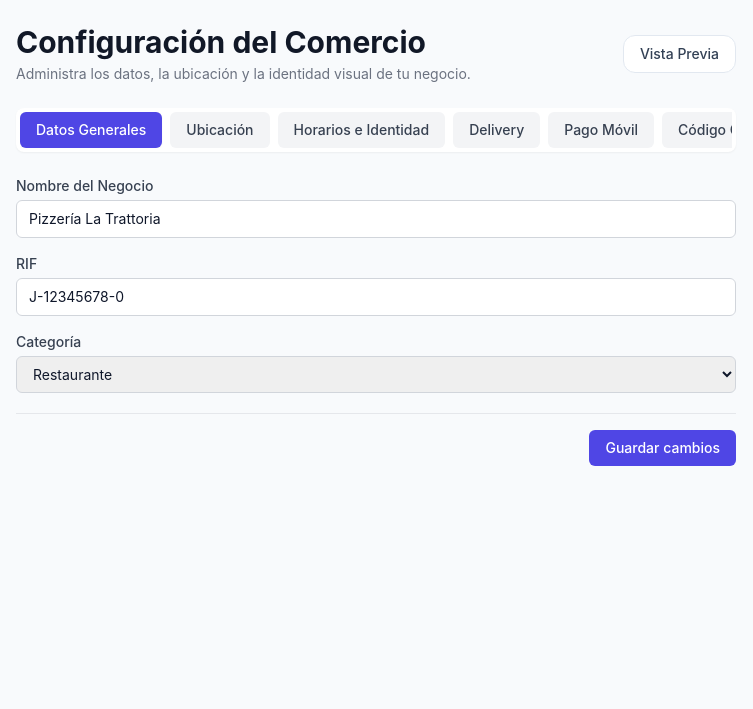
Test: MerchantSettingsPage › precarga los campos con los datos del comercio existente
Expected: the field showing "Pizzería La Trattoria" is shown, [16,200,736,238]
Expected: the field showing "J-12345678-0" is shown, [16,278,736,316]
Click the button "Ubicación".
click(220, 130)  # box [170,112,270,148]
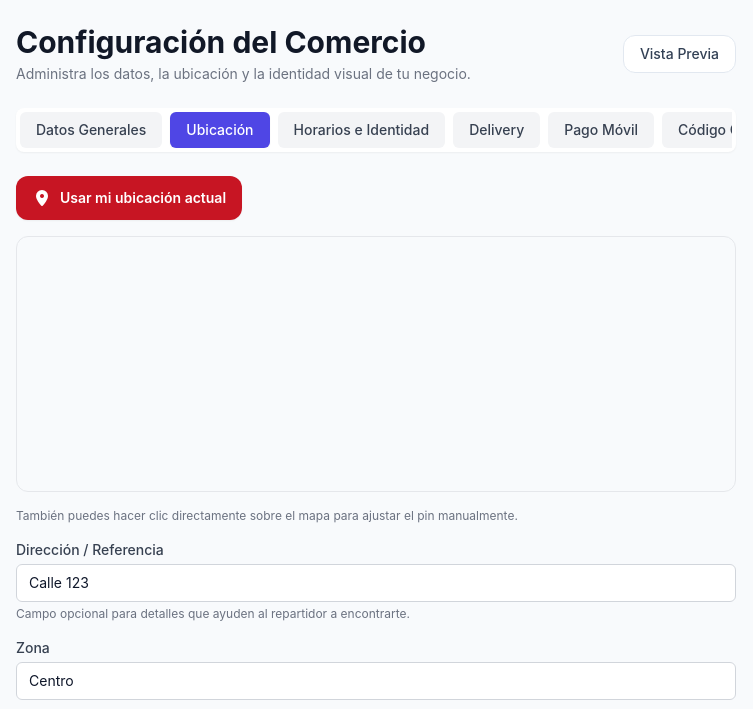
Result: the field showing "Calle 123" is shown at [16,564,736,602]
Result: the field showing "Centro" is shown at [16,662,736,700]
Click the button "Horarios e Identidad".
click(361, 130)  # box [278,112,445,148]
(page scrolled)
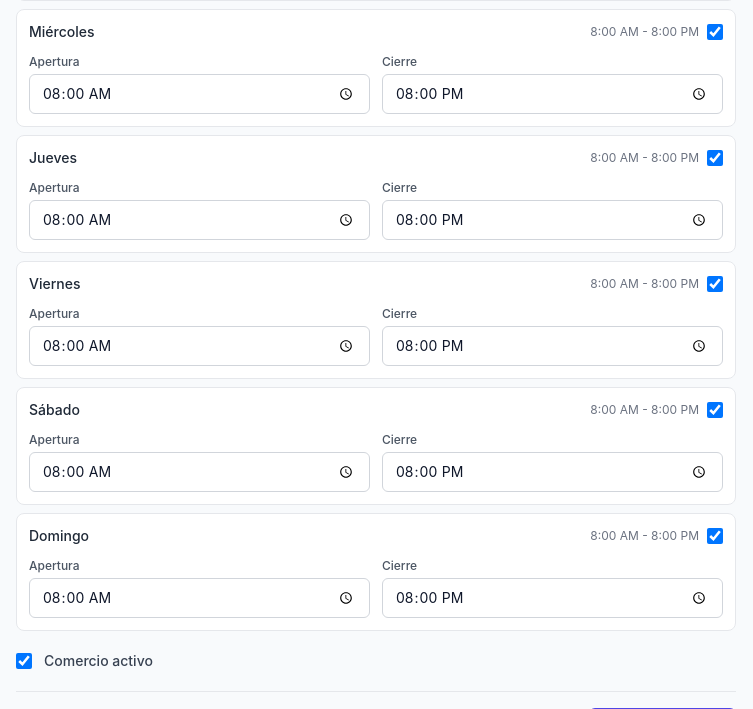
Result: the checkbox labelled "Comercio activo" is checked at [16,653,32,669]
